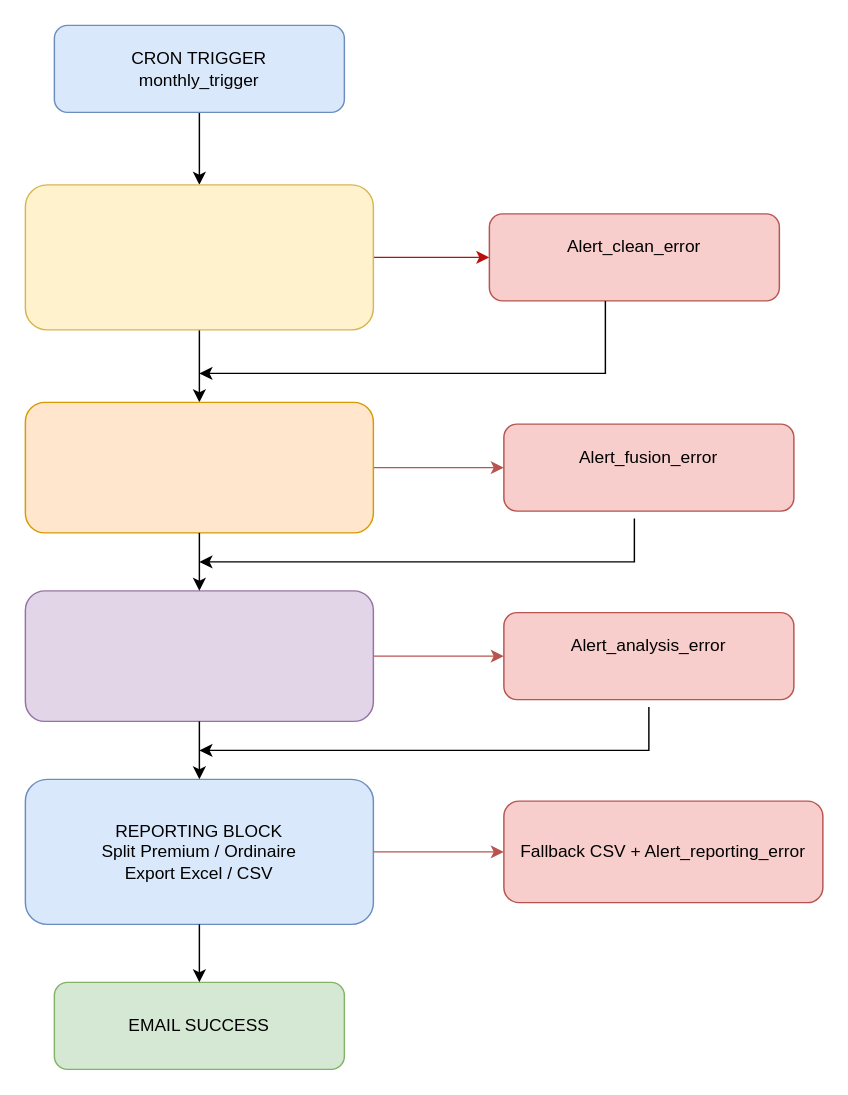
This 848x1095 diagram has some shape labels left out. The box of each missing label's shape, as (x1, y1, x2, y2) in pixels:
ANALYSIS BLOCK Test_CA Z-Score: (24, 589, 373, 721)
FUSION BLOCK Join datasets Test_fusion: (24, 401, 373, 533)
PREPARATION BLOCK Ingestion Clean Dedup Test_clean: (24, 183, 373, 330)
